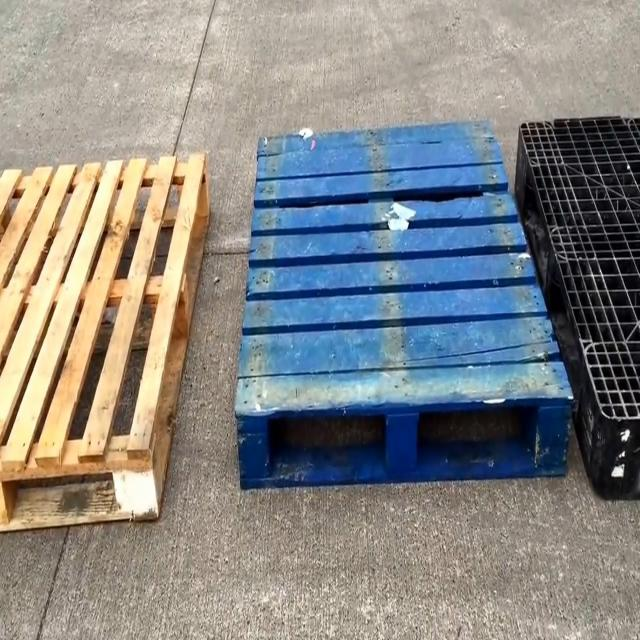Palette: (234, 115, 573, 488), (0, 143, 217, 538), (517, 115, 640, 517)
